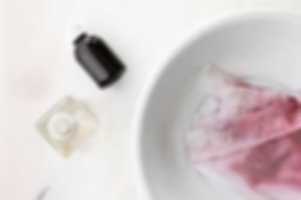wine: (198, 93, 300, 200)
